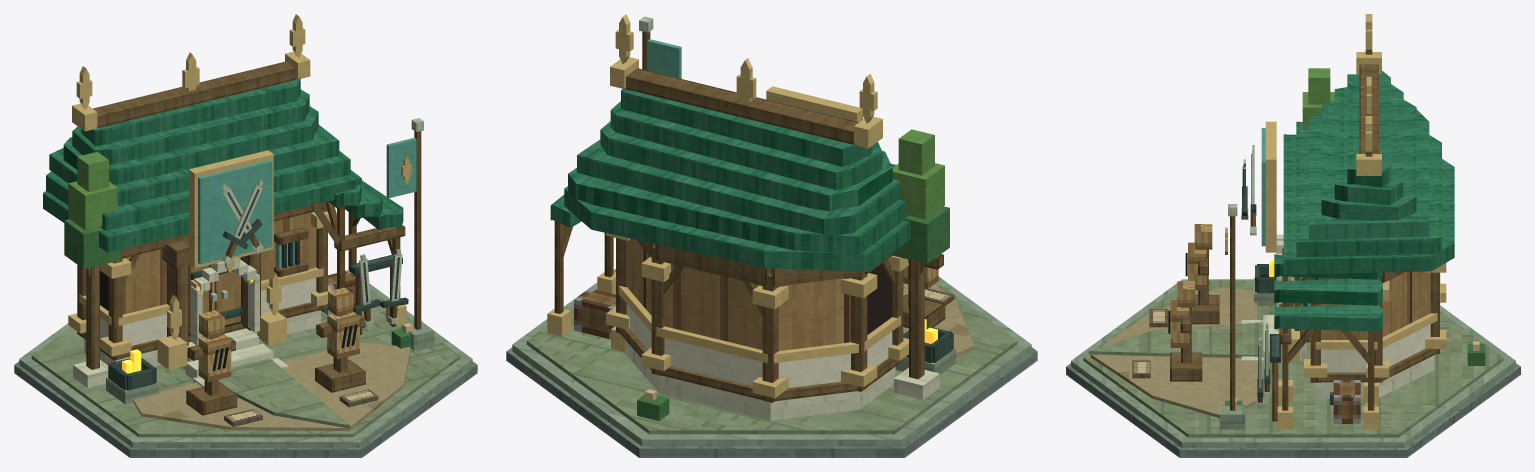
Rendered from elf_warrior_hall_hex_v1.glb.
3 renders of one model, left to right at view 1: azimuth 30°, elevation 25°; view 2: azimuth 150°, elevation 25°; view 3: azimuth 270°, elevation 25°, orthographic. The views are drawn at different scales.
Parts seen in each view (by area): view 1: Elf_Warrior_Hall_Hex_V1_Roofs, Elf_Warrior_Hall_Hex_V1_Hall, Elf_Warrior_Hall_Hex_V1_Foundation, Elf_Warrior_Hall_Hex_V1_Details, Elf_Warrior_Hall_Hex_V1_Courtyard, Elf_Warrior_Hall_Hex_V1_Training, Elf_Warrior_Hall_Hex_V1_Faction, Elf_Warrior_Hall_Hex_V1_Armory; view 2: Elf_Warrior_Hall_Hex_V1_Roofs, Elf_Warrior_Hall_Hex_V1_Hall, Elf_Warrior_Hall_Hex_V1_Foundation, Elf_Warrior_Hall_Hex_V1_Details, Elf_Warrior_Hall_Hex_V1_Armory, Elf_Warrior_Hall_Hex_V1_Training, Elf_Warrior_Hall_Hex_V1_Courtyard, Elf_Warrior_Hall_Hex_V1_Faction; view 3: Elf_Warrior_Hall_Hex_V1_Roofs, Elf_Warrior_Hall_Hex_V1_Foundation, Elf_Warrior_Hall_Hex_V1_Hall, Elf_Warrior_Hall_Hex_V1_Courtyard, Elf_Warrior_Hall_Hex_V1_Details, Elf_Warrior_Hall_Hex_V1_Armory, Elf_Warrior_Hall_Hex_V1_Training, Elf_Warrior_Hall_Hex_V1_Faction.
Part boxes in pixels (x1,y1,x2,y2): Elf_Warrior_Hall_Hex_V1_Roofs: [43, 14, 403, 252]; Elf_Warrior_Hall_Hex_V1_Hall: [68, 150, 336, 369]; Elf_Warrior_Hall_Hex_V1_Foundation: [14, 283, 477, 457]; Elf_Warrior_Hall_Hex_V1_Details: [64, 52, 434, 404]; Elf_Warrior_Hall_Hex_V1_Courtyard: [133, 328, 410, 431]; Elf_Warrior_Hall_Hex_V1_Training: [186, 287, 378, 426]; Elf_Warrior_Hall_Hex_V1_Faction: [198, 138, 416, 264]; Elf_Warrior_Hall_Hex_V1_Armory: [310, 201, 408, 334]; Elf_Warrior_Hall_Hex_V1_Roofs: [550, 14, 910, 271]; Elf_Warrior_Hall_Hex_V1_Hall: [606, 86, 908, 420]; Elf_Warrior_Hall_Hex_V1_Foundation: [506, 269, 1037, 457]; Elf_Warrior_Hall_Hex_V1_Details: [637, 16, 956, 420]; Elf_Warrior_Hall_Hex_V1_Armory: [547, 221, 624, 351]; Elf_Warrior_Hall_Hex_V1_Training: [903, 254, 954, 328]; Elf_Warrior_Hall_Hex_V1_Courtyard: [903, 283, 974, 356]; Elf_Warrior_Hall_Hex_V1_Faction: [647, 39, 681, 78]; Elf_Warrior_Hall_Hex_V1_Roofs: [1274, 14, 1454, 331]; Elf_Warrior_Hall_Hex_V1_Foundation: [1066, 279, 1520, 457]; Elf_Warrior_Hall_Hex_V1_Hall: [1265, 121, 1446, 398]; Elf_Warrior_Hall_Hex_V1_Courtyard: [1088, 287, 1306, 418]; Elf_Warrior_Hall_Hex_V1_Details: [1220, 68, 1485, 429]; Elf_Warrior_Hall_Hex_V1_Armory: [1257, 248, 1378, 429]; Elf_Warrior_Hall_Hex_V1_Training: [1132, 224, 1219, 381]; Elf_Warrior_Hall_Hex_V1_Faction: [1261, 128, 1265, 246].
Bounding box in the file's own units: 1.59 × 1.35 × 1.84.
1 material, 1 textured.
